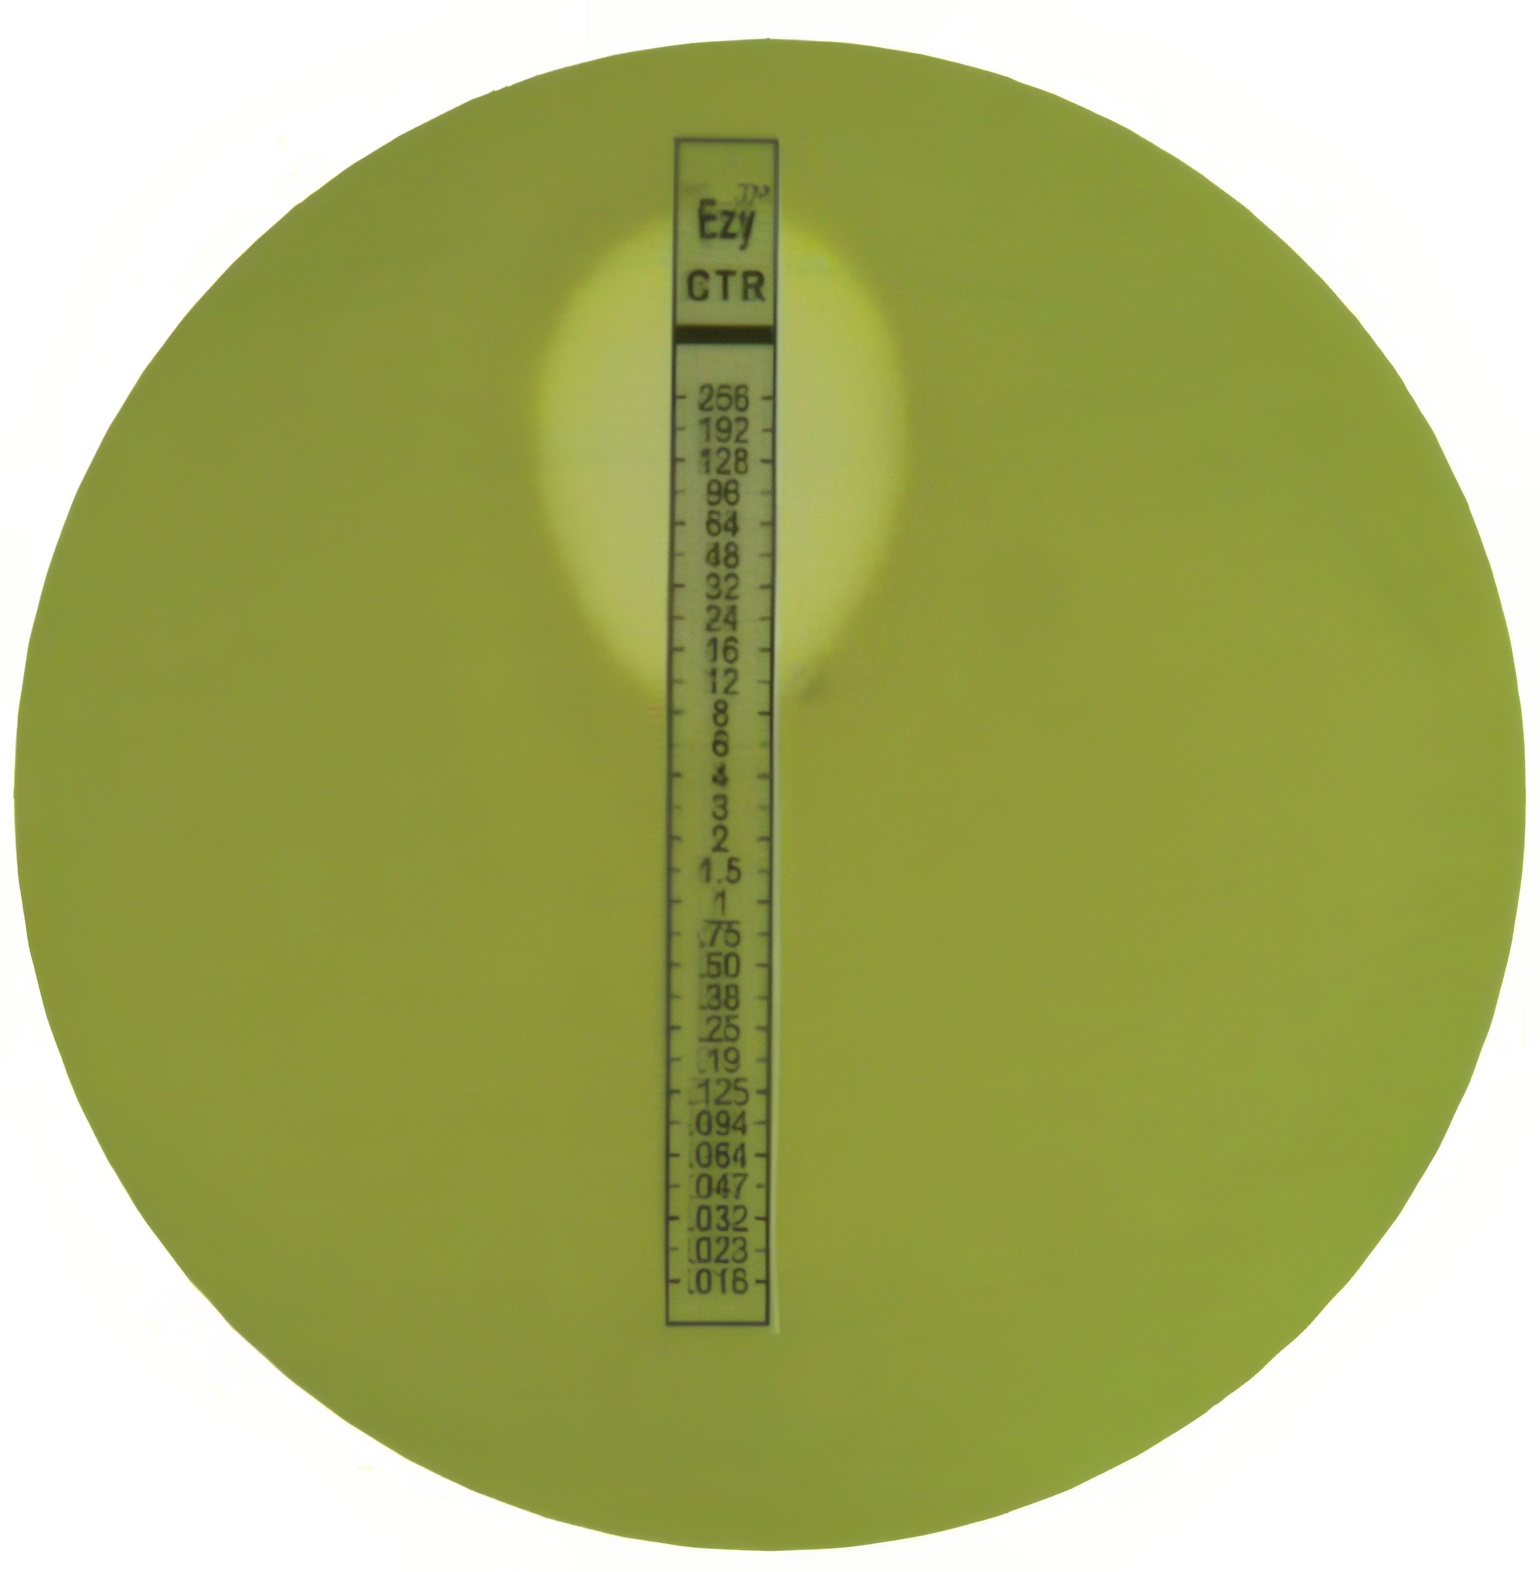line: (661, 135, 781, 1328)
zone: (551, 233, 898, 688)
